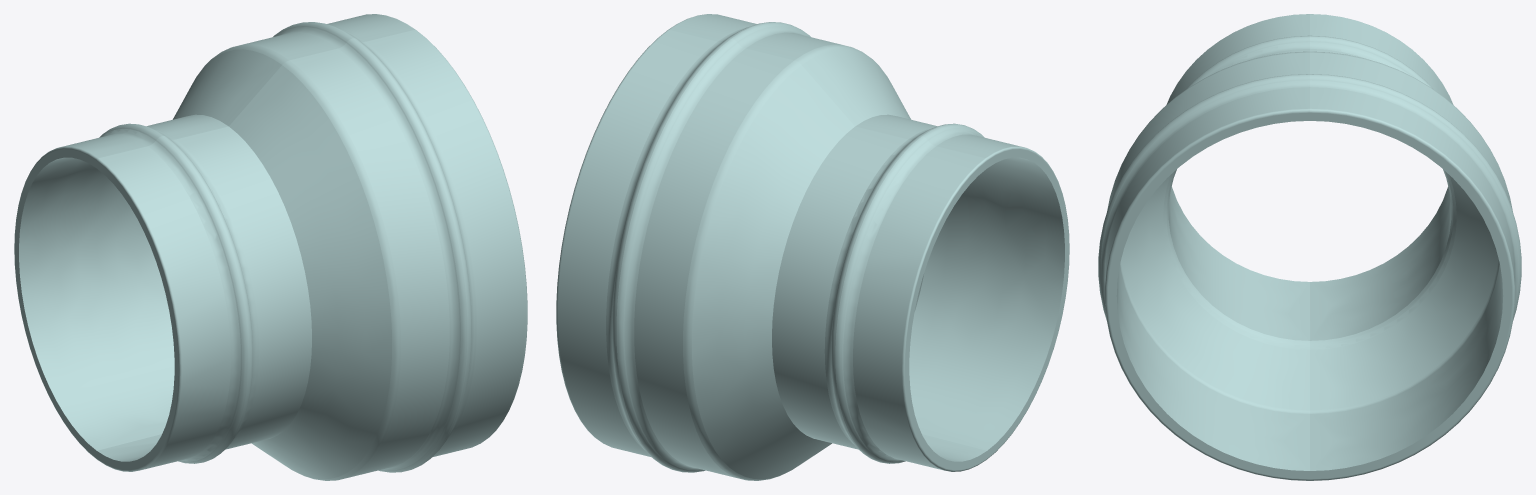
3 renders of one model, left to right at view 1: azimuth 30°, elevation 25°; view 2: azimuth 150°, elevation 25°; view 3: azimuth 270°, elevation 25°, orthographic. The views are drawn at different scales.
Size of the model in its own units: 172 by 214 by 214.
